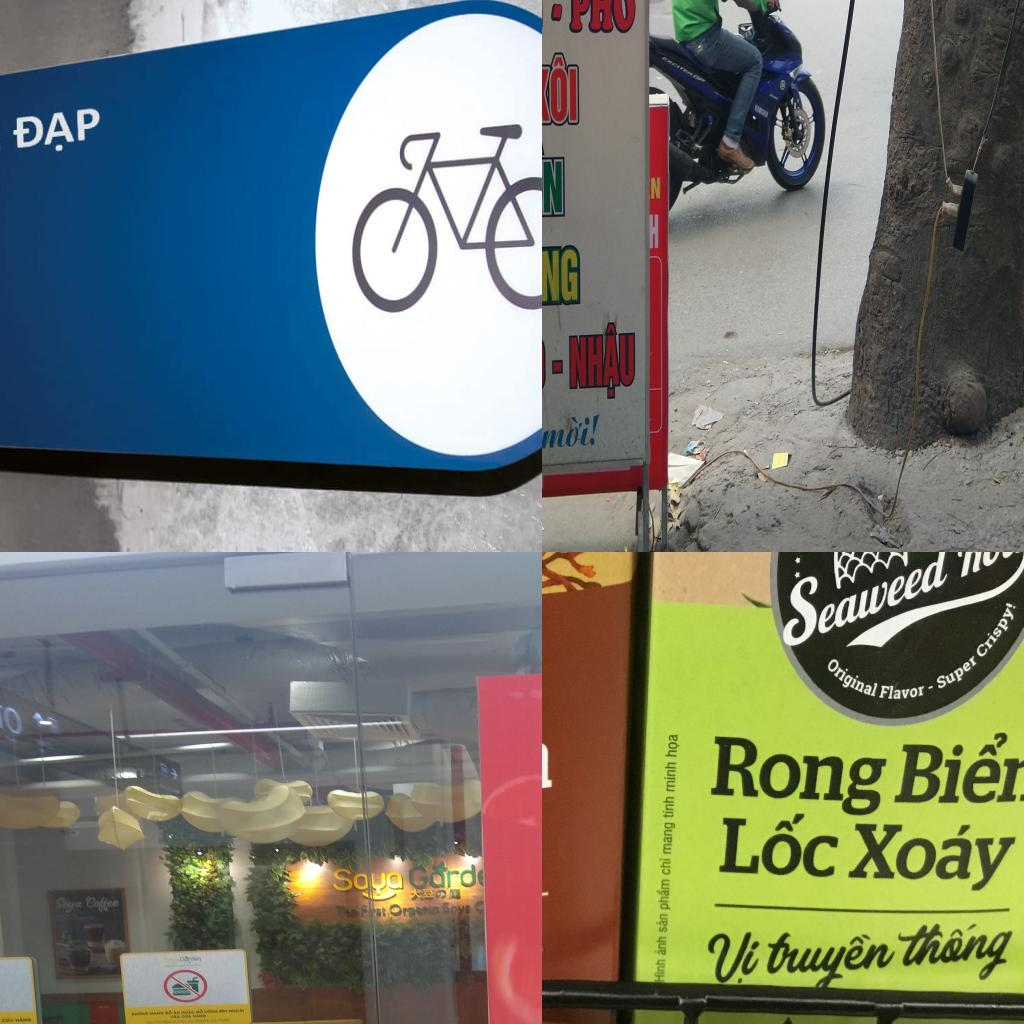text: (779, 552, 951, 653), (707, 736, 887, 818), (844, 821, 1024, 892), (892, 728, 1024, 804), (715, 804, 841, 879), (759, 926, 896, 988), (898, 920, 1020, 981), (565, 320, 637, 406), (705, 927, 766, 984), (974, 600, 1024, 664), (542, 49, 579, 127), (820, 656, 882, 702), (567, 0, 641, 35), (542, 243, 581, 308), (951, 552, 1024, 584), (542, 412, 602, 449), (330, 868, 404, 896), (935, 650, 978, 695), (542, 136, 565, 220), (408, 863, 477, 888), (661, 53, 708, 85), (880, 680, 926, 700), (388, 903, 440, 919), (655, 878, 672, 912), (662, 821, 678, 857), (85, 896, 120, 912), (665, 728, 681, 760), (648, 212, 660, 251), (55, 898, 84, 914), (441, 901, 473, 915), (664, 762, 678, 792), (652, 958, 666, 983), (654, 934, 668, 959), (752, 102, 770, 120), (658, 853, 672, 876), (662, 795, 676, 818), (649, 176, 662, 200), (334, 904, 358, 917), (656, 913, 668, 934), (179, 956, 202, 962), (163, 957, 179, 965), (375, 906, 387, 916), (360, 904, 369, 916), (228, 1007, 244, 1013), (14, 1017, 32, 1022), (131, 1011, 149, 1016), (209, 1018, 231, 1022), (180, 1010, 196, 1015), (204, 1009, 218, 1014), (2, 1017, 15, 1022), (169, 1014, 181, 1019), (192, 1014, 207, 1018), (150, 1011, 164, 1015), (219, 1008, 228, 1014), (180, 1014, 192, 1018), (164, 1010, 173, 1015), (172, 1010, 181, 1015), (196, 1009, 204, 1014), (146, 1020, 154, 1024)
